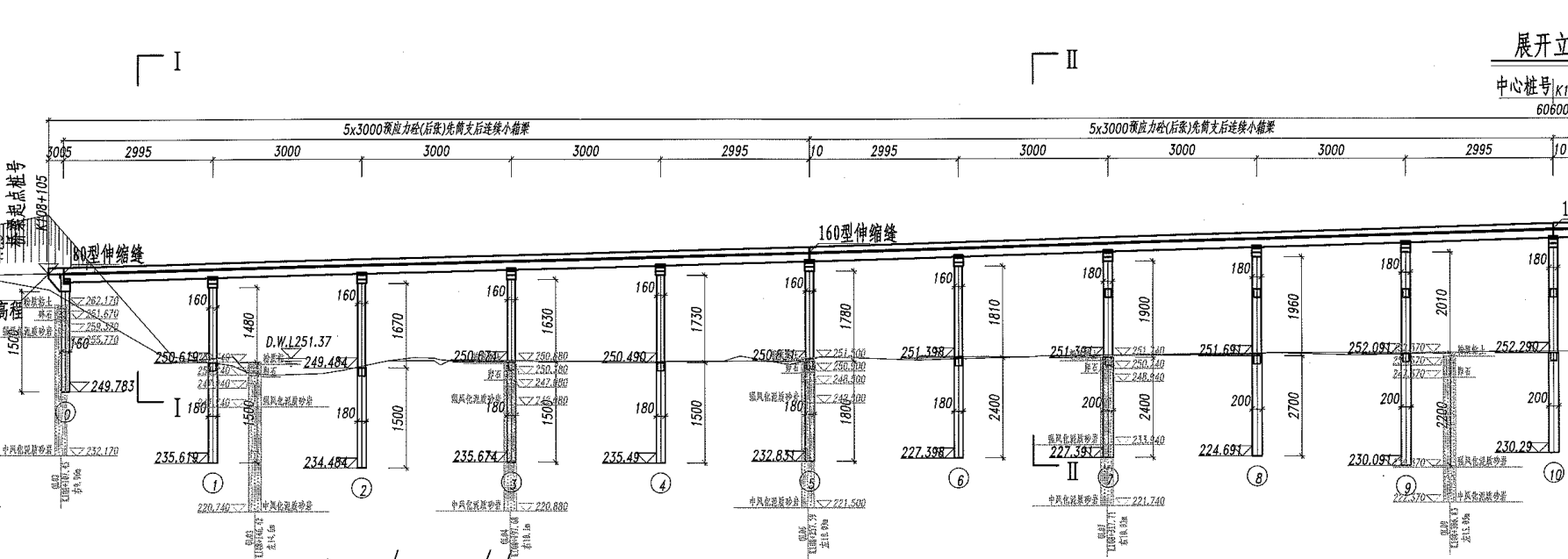A: (30, 104, 1568, 126)
B: (802, 116, 1561, 145), (58, 116, 819, 143)
C: (1189, 243, 1275, 490), (593, 259, 681, 496), (746, 258, 831, 496), (1047, 247, 1126, 490), (1349, 237, 1422, 498), (1492, 233, 1564, 488), (449, 266, 529, 495), (302, 269, 379, 504), (898, 253, 972, 494), (154, 274, 231, 498)
D: (262, 332, 333, 363)
